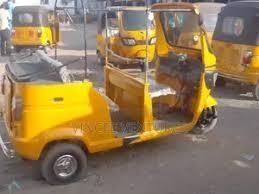keke: (1, 0, 228, 185)
